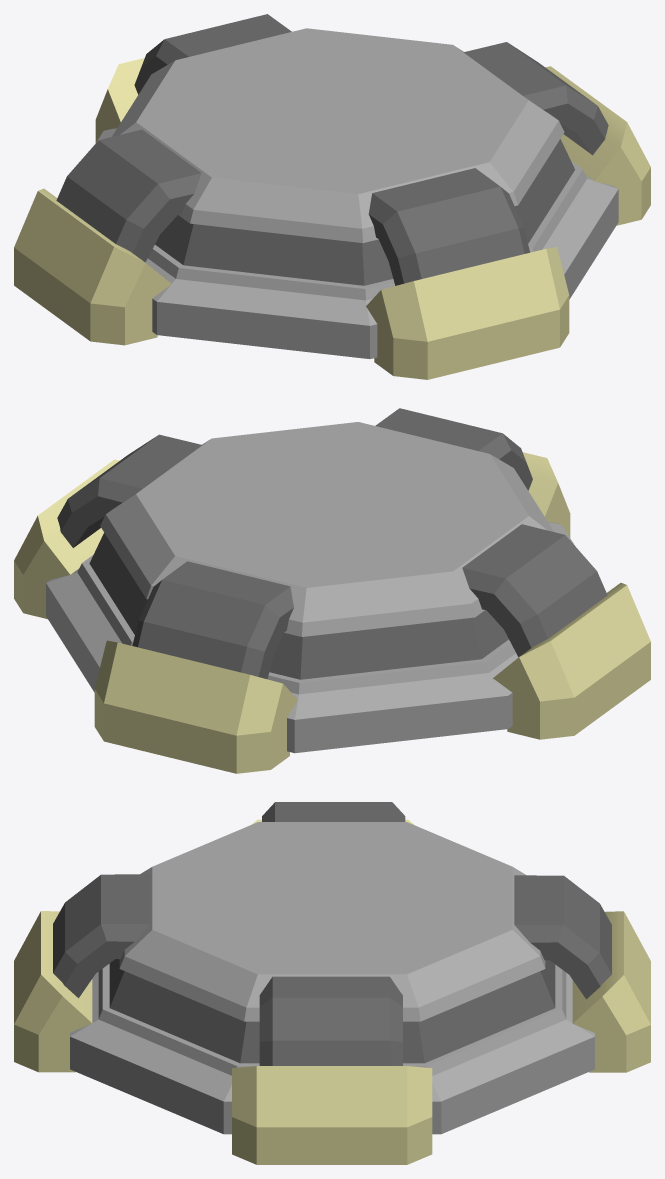
The model's file is Rychlopalnica_Pevnej_zaklad.fbx.
3 views of the same model, one above another, from view 1: azimuth 30°, elevation 25°; view 2: azimuth 150°, elevation 25°; view 3: azimuth 270°, elevation 25° (orthographic).
Parts seen in each view (by area): view 1: pCube117; view 2: pCube117; view 3: pCube117.
Part boxes in pixels (x1,y1,x2,y2): pCube117: (14,14,650,379); pCube117: (14,408,650,773); pCube117: (14,802,650,1164).
Bounding box in the file's own units: 58.18 × 13.31 × 58.18.
